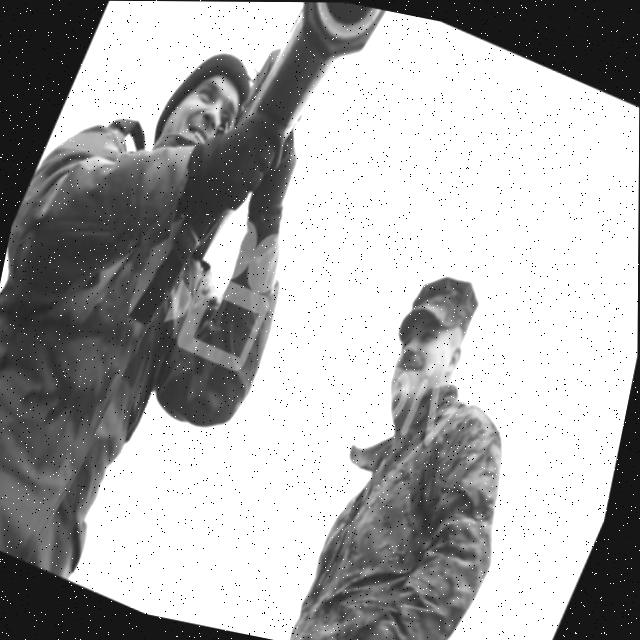rocket: (235, 1, 386, 158)
